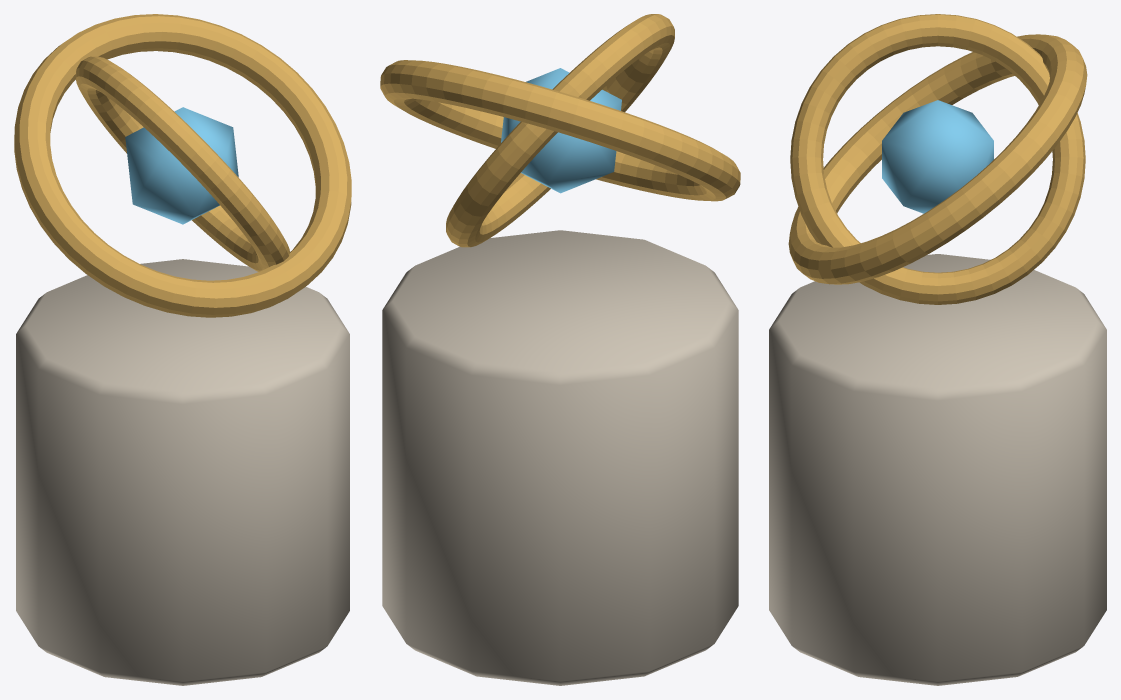
The model's file is P06-mini-armillary-sphere.glb.
3 views of the same model, side by side, from view 1: azimuth 30°, elevation 25°; view 2: azimuth 150°, elevation 25°; view 3: azimuth 270°, elevation 25° (orthographic). The views are drawn at different scales.
Visible parts, largest first — view 1: Plinth, brass, Globe; view 2: Plinth, brass, Globe; view 3: Plinth, brass, Globe.
Part boxes in pixels (x1,y1,x2,y2): Plinth: [16, 259, 349, 685]; brass: [14, 14, 351, 317]; Globe: [125, 107, 238, 224]; Plinth: [382, 230, 738, 685]; brass: [380, 14, 740, 247]; Globe: [501, 68, 621, 193]; Plinth: [769, 254, 1106, 685]; brass: [788, 14, 1087, 304]; Globe: [882, 100, 993, 213].
Bounding box in the file's own units: 0.76 × 1.34 × 0.72.
